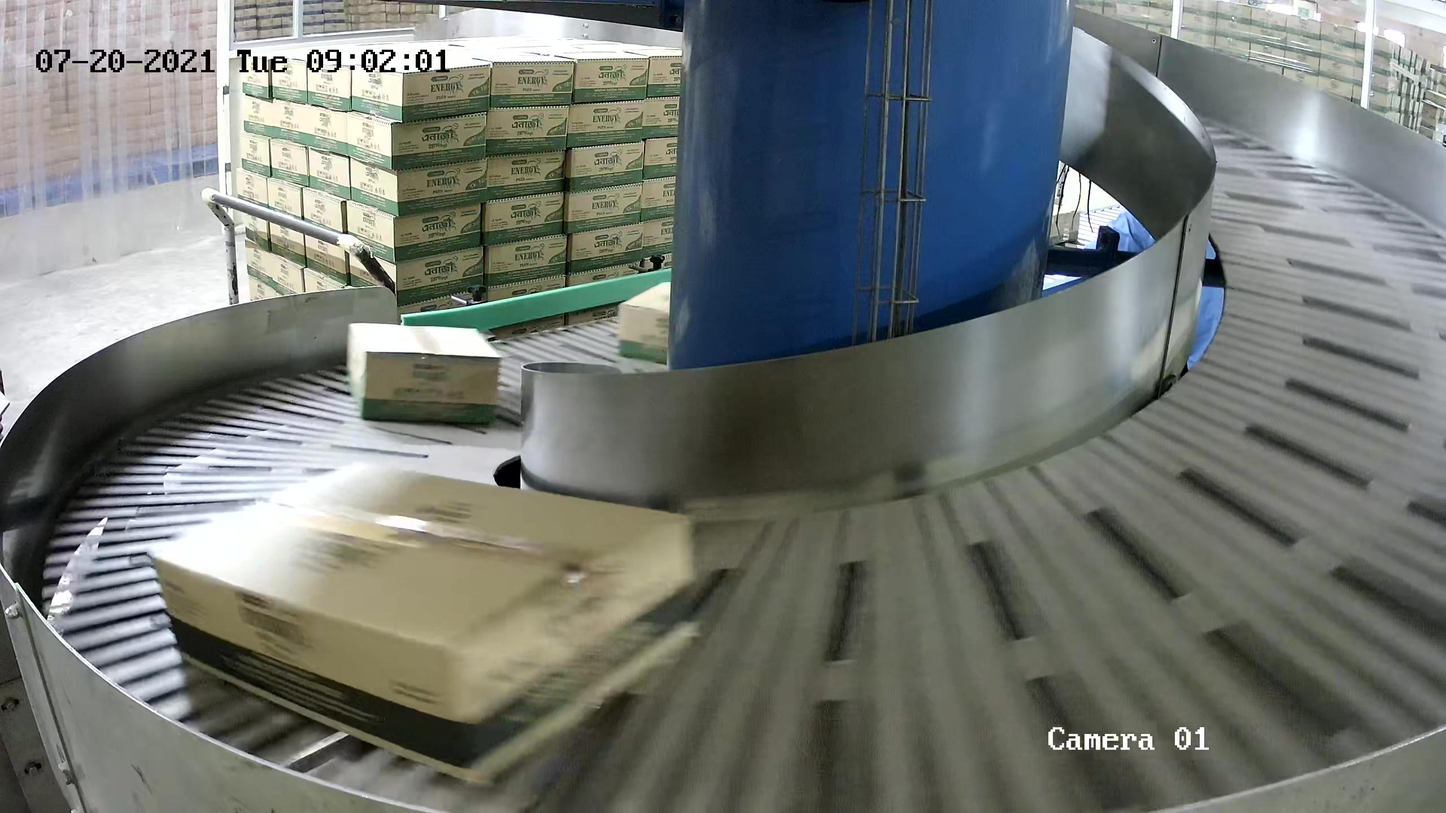Box: (143, 453, 703, 787), (345, 320, 504, 426), (616, 280, 671, 366)
